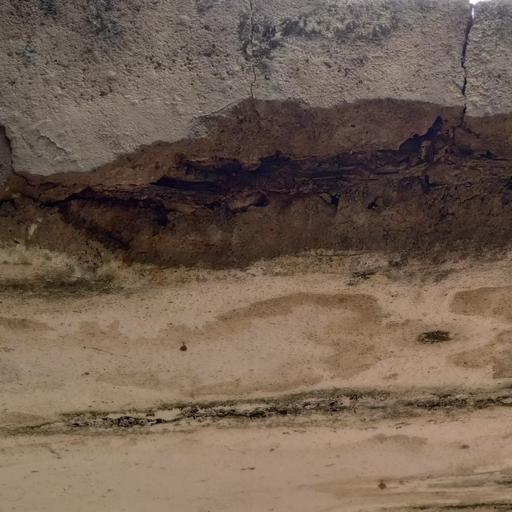spalling: (0, 74, 512, 299)
